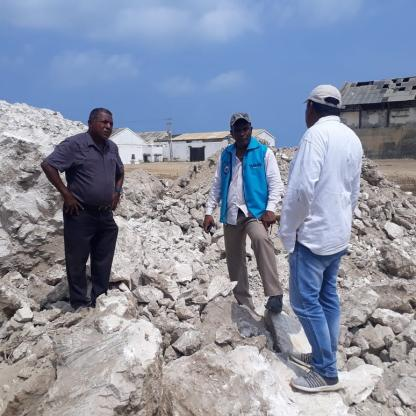person: (273, 80, 375, 402), (189, 83, 289, 336), (36, 93, 130, 330)
